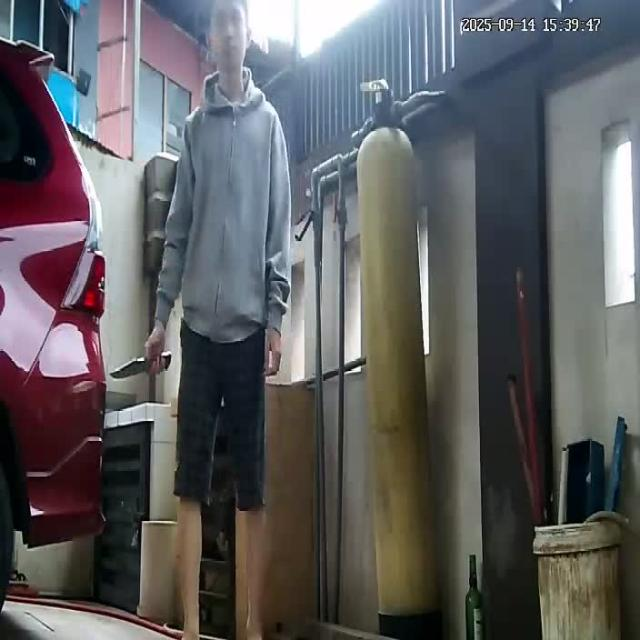senjata_tajam: (107, 356, 147, 380)
